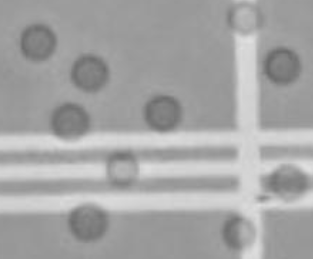cell: (63, 194, 113, 246), (264, 157, 311, 208), (46, 98, 94, 147), (259, 39, 305, 90), (66, 51, 116, 96), (14, 18, 61, 63), (221, 1, 270, 43), (216, 208, 259, 255), (100, 146, 144, 190), (141, 91, 185, 134)
